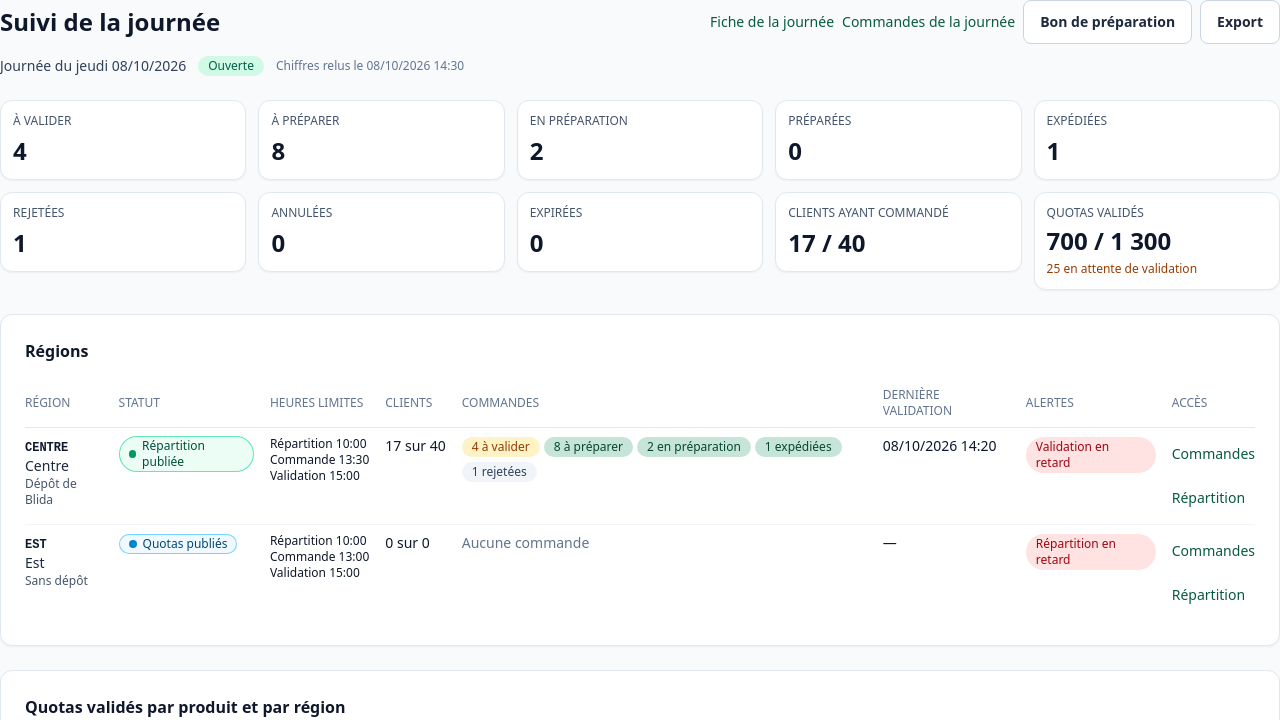
Test: ADV — picking list (RG-A04, EF-ADV-05) › cannot be requested while offline
What coordinates should you click on to do the following:
click the button "Bon de préparation"
I would click on:
 (1108, 22)
Its box is x1=1023 y1=0 x2=1192 y2=44.
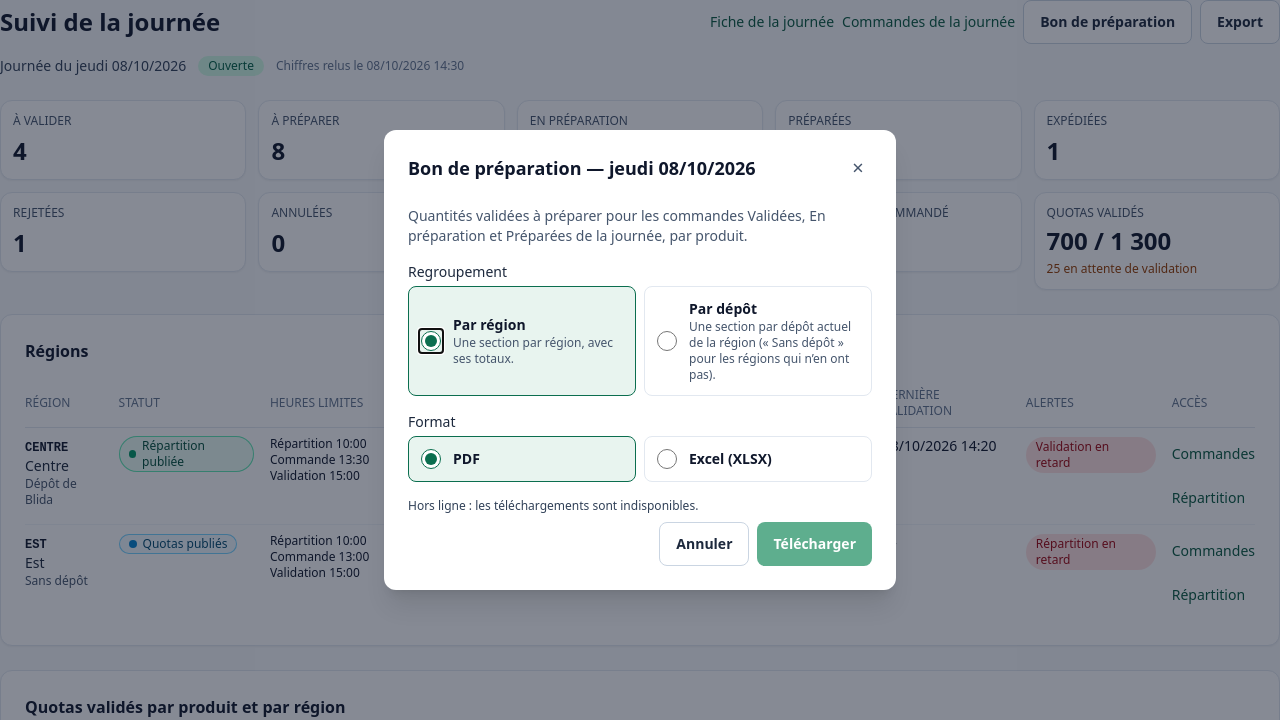
Expected: the button "Télécharger" is disabled, x1=758 y1=522 x2=872 y2=566
Expected: the text "Hors ligne : les téléchargements sont indisponibles." is shown, x1=408 y1=497 x2=698 y2=514
